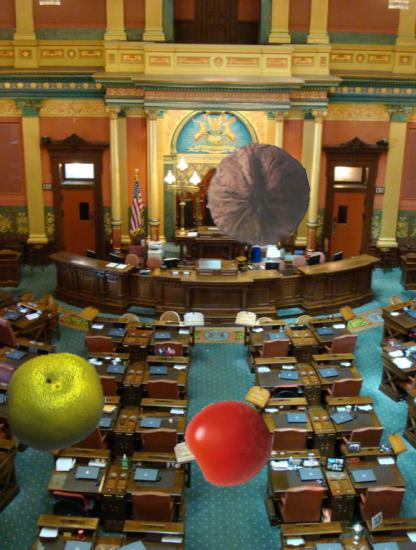Pomelo: (3, 351, 107, 455)
Tomato: (187, 399, 274, 486)
Walnut: (205, 141, 312, 248)
